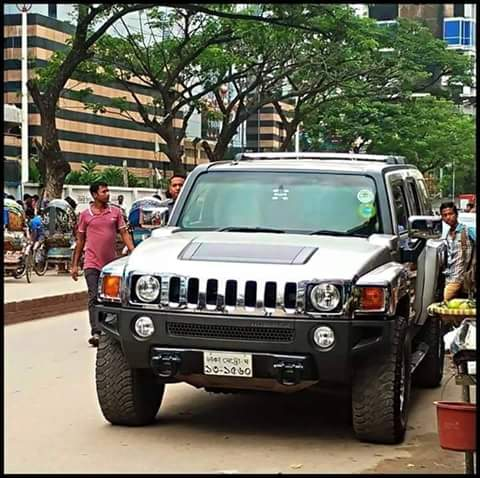registration_plate: (202, 350, 253, 378)
